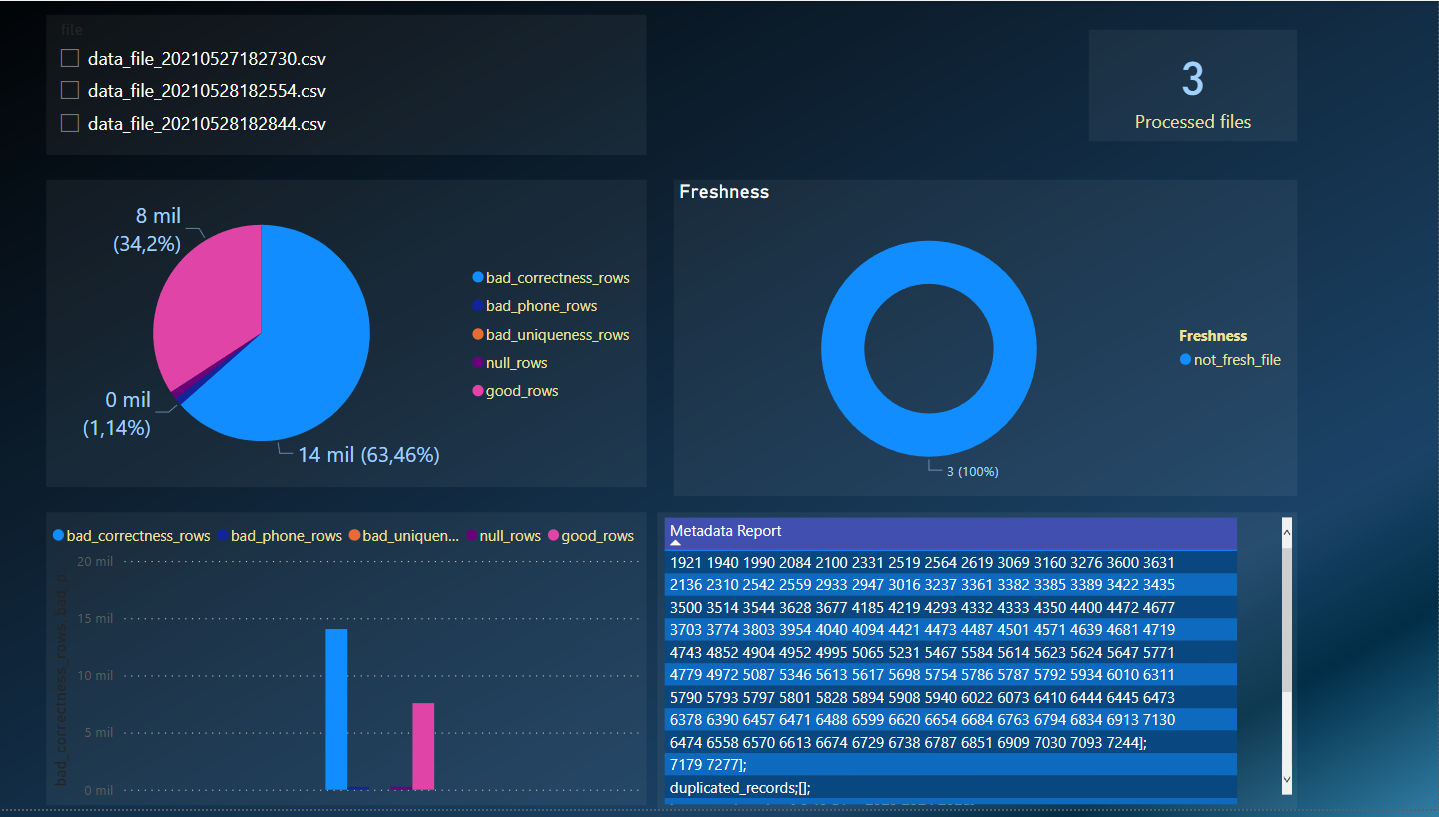

What the dashboard file says about the page in this screenshot:
{"tool":"powerbi","page":{"name":"Página 1","canvas":[1280,720],"ordinal":0},"visuals":[{"type":"pieChart","fields":{"Y":["Sum(process_result_2022-09-05.bad_correctness_rows)","Sum(process_result_2022-09-05.bad_phone_rows)","Sum(process_result_2022-09-05.bad_uniqueness_rows)","Sum(process_result_2022-09-05.null_rows)","process_result_2022-09-05.good_rows"]},"box":[41.2,159.3,534.2,273.3],"z":0},{"type":"clusteredColumnChart","fields":{"Y":["Sum(process_result_2022-09-05.bad_correctness_rows)","Sum(process_result_2022-09-05.bad_phone_rows)","Sum(process_result_2022-09-05.bad_uniqueness_rows)","Sum(process_result_2022-09-05.null_rows)","process_result_2022-09-05.good_rows"]},"box":[41.2,454.6,534.2,260.9],"z":1000},{"type":"card","fields":{"Values":["CountNonNull(process_result_2022-09-05.file)"]},"box":[969.6,26.1,185.4,98.9],"z":2000},{"type":"slicer","fields":{"Values":["process_result_2022-09-05.file"]},"box":[41.2,12.4,534.2,125],"z":3000},{"type":"donutChart","title":"Freshness","fields":{"Category":["process_result_2022-09-05.is_fresh"],"Y":["CountNonNull(process_result_2022-09-05.is_fresh)"]},"box":[600.2,159.3,554.8,281.5],"z":4000},{"type":"tableEx","fields":{"Values":["metadata_data_file_20210527182730.Column1"]},"box":[585.1,454.6,570,265.1],"z":4001}]}

Visuals, with their boxes in screenshot pixels (x1, y1, x2, y2), scaled from the page's 1280x720 canvas onto the 1439x817 screenshot:
pieChart - Sum(process_result_2022-09-05.bad_correctness_rows) x Sum(process_result_2022-09-05.bad_phone_rows): BBox(46, 181, 647, 491)
clusteredColumnChart - Sum(process_result_2022-09-05.bad_correctness_rows) x Sum(process_result_2022-09-05.bad_phone_rows): BBox(46, 516, 647, 812)
card - CountNonNull(process_result_2022-09-05.file): BBox(1090, 30, 1298, 142)
slicer - process_result_2022-09-05.file: BBox(46, 14, 647, 156)
"Freshness" donutChart: BBox(675, 181, 1298, 500)
tableEx - metadata_data_file_20210527182730.Column1: BBox(658, 516, 1299, 816)
